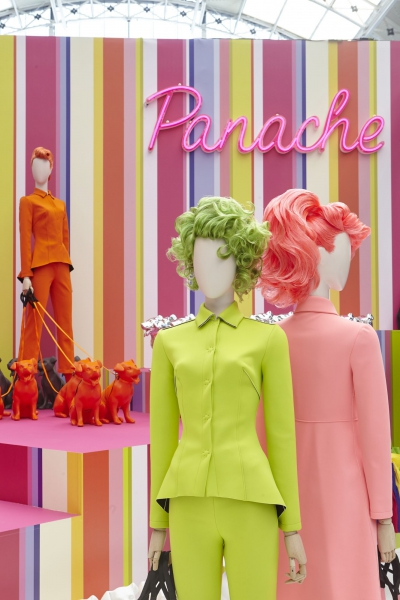person-like: (139, 193, 312, 600), (255, 186, 398, 600), (13, 150, 82, 413)
